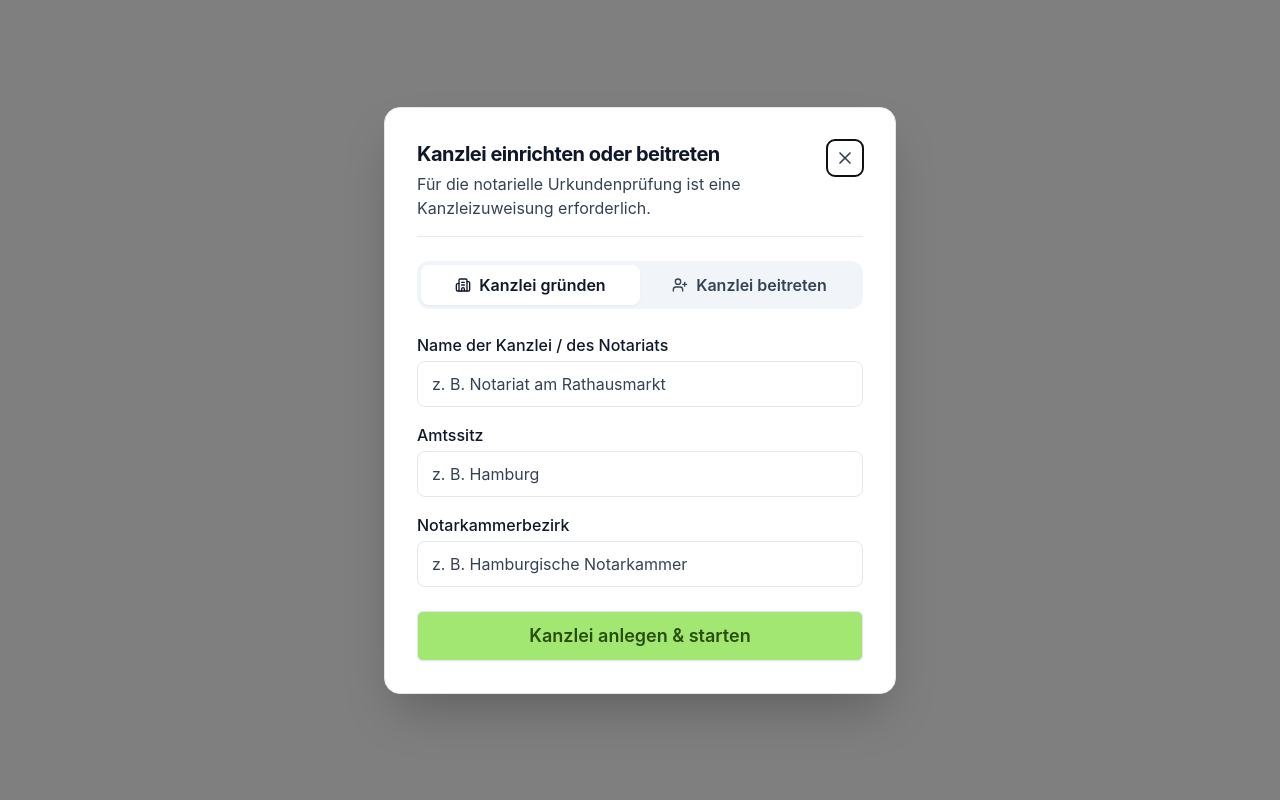
Test: OrganizationGatewayModal › switches between create and join tabs
Click the button "Kanzlei beitreten" at (750, 284), box [640,264,859,304]
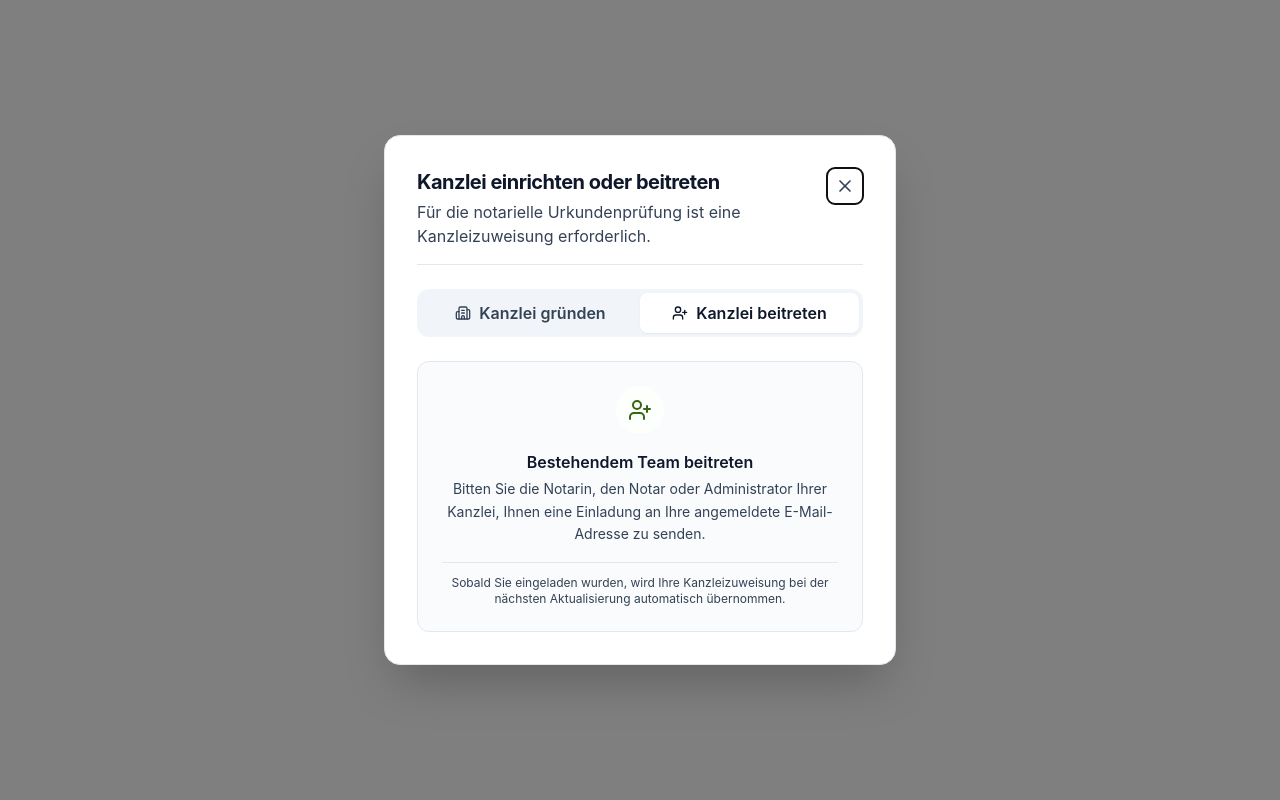
Result: the heading "Bestehendem Team beitreten" is shown at [527,452,753,472]
